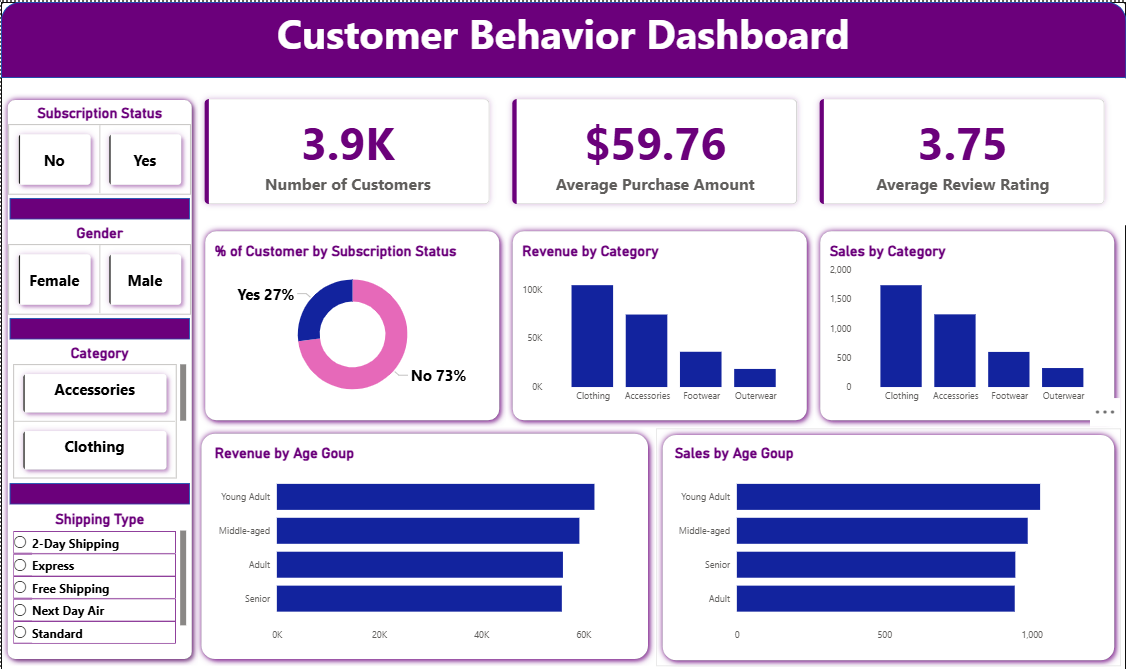

The dashboard page shown, as its layout file describes it:
{"tool":"powerbi","page":{"name":"Page 1","canvas":[1500,900],"ordinal":0},"visuals":[{"type":"cardVisual","fields":{"Data":["public customer.Number of Customers","public customer.Average Purchase Amount","public customer.Average Review Rating"]},"box":[242.8,101.3,1257.5,196.2],"z":0},{"type":"shape","box":[0,0,1500.3,101.3],"z":1000},{"type":"textbox","box":[0,0,1500,101.7],"z":2000},{"type":"shape","box":[263.7,297.5,410.1,270.2],"z":3000},{"type":"donutChart","title":"% of Customer by Subscription Status","fields":{"Category":["public customer.subscription_status"],"Y":["CountNonNull(public customer.customer_id)"]},"box":[279.8,321.6,377.9,221.9],"z":4000},{"type":"shape","box":[673.8,297.5,410.1,270.2],"z":5000},{"type":"shape","box":[1083.8,297.5,410.1,270.2],"z":6000},{"type":"clusteredColumnChart","title":"Revenue by Category","fields":{"Y":["Sum(public customer.purchase_amount)"],"Category":["public customer.category"]},"box":[689.9,321.6,379.5,221.9],"z":7000},{"type":"clusteredColumnChart","title":"Sales by Category","fields":{"Y":["CountNonNull(public customer.customer_id)"],"Category":["public customer.category"]},"box":[1099.9,321.6,379.5,221.9],"z":8000},{"type":"shape","box":[0,121.7,263.3,763.3],"z":9000},{"type":"advancedSlicerVisual","title":"Gender","fields":{"Values":["public customer.gender"]},"box":[5,296.7,253.3,125],"z":10000},{"type":"advancedSlicerVisual","title":"Subscription Status","fields":{"Values":["public customer.subscription_status"]},"box":[5,136.7,253.3,125],"z":11000},{"type":"advancedSlicerVisual","title":"Category","fields":{"Values":["public customer.category"]},"box":[11.7,456.7,240,185],"z":12000},{"type":"shape","box":[11.7,421.7,240,28.3],"z":13000},{"type":"listSlicer","title":"Shipping Type","fields":{"Values":["public customer.shipping_type"]},"box":[11.7,678.3,240,183.3],"z":14000},{"type":"shape","box":[11.7,261.7,240,28.3],"z":15000},{"type":"shape","box":[11.7,641.7,240,28.3],"z":16000},{"type":"shape","box":[258.3,566.7,613.3,318.3],"z":16002},{"type":"clusteredBarChart","title":"Revenue by Age Goup","fields":{"Y":["Sum(public customer.purchase_amount)"],"Category":["public customer.age_group"]},"box":[280,590,580,271.7],"z":16003},{"type":"shape","box":[873.3,568.3,620,318.3],"z":16004},{"type":"clusteredBarChart","title":"Sales by Age Goup","fields":{"Y":["CountNonNull(public customer.customer_id)"],"Category":["public customer.age_group"]},"box":[893.3,590,580,271.7],"z":16005}]}

Visuals, with their boxes in screenshot pixels (x1, y1, x2, y2), scaled from the page's 1500x900 canvas onto the 1126x669 screenshot:
cardVisual - public customer.Number of Customers x public customer.Average Purchase Amount: [x1=182, y1=75, x2=1125, y2=221]
shape: [x1=0, y1=0, x2=1125, y2=75]
textbox: [x1=0, y1=0, x2=1125, y2=76]
shape: [x1=198, y1=221, x2=506, y2=422]
"% of Customer by Subscription Status" donutChart: [x1=210, y1=239, x2=494, y2=404]
shape: [x1=506, y1=221, x2=814, y2=422]
shape: [x1=814, y1=221, x2=1121, y2=422]
"Revenue by Category" clusteredColumnChart: [x1=518, y1=239, x2=803, y2=404]
"Sales by Category" clusteredColumnChart: [x1=826, y1=239, x2=1111, y2=404]
shape: [x1=0, y1=90, x2=198, y2=658]
"Gender" advancedSlicerVisual: [x1=4, y1=221, x2=194, y2=313]
"Subscription Status" advancedSlicerVisual: [x1=4, y1=102, x2=194, y2=195]
"Category" advancedSlicerVisual: [x1=9, y1=339, x2=189, y2=477]
shape: [x1=9, y1=313, x2=189, y2=334]
"Shipping Type" listSlicer: [x1=9, y1=504, x2=189, y2=640]
shape: [x1=9, y1=195, x2=189, y2=216]
shape: [x1=9, y1=477, x2=189, y2=498]
shape: [x1=194, y1=421, x2=654, y2=658]
"Revenue by Age Goup" clusteredBarChart: [x1=210, y1=439, x2=646, y2=641]
shape: [x1=656, y1=422, x2=1121, y2=659]
"Sales by Age Goup" clusteredBarChart: [x1=671, y1=439, x2=1106, y2=641]
